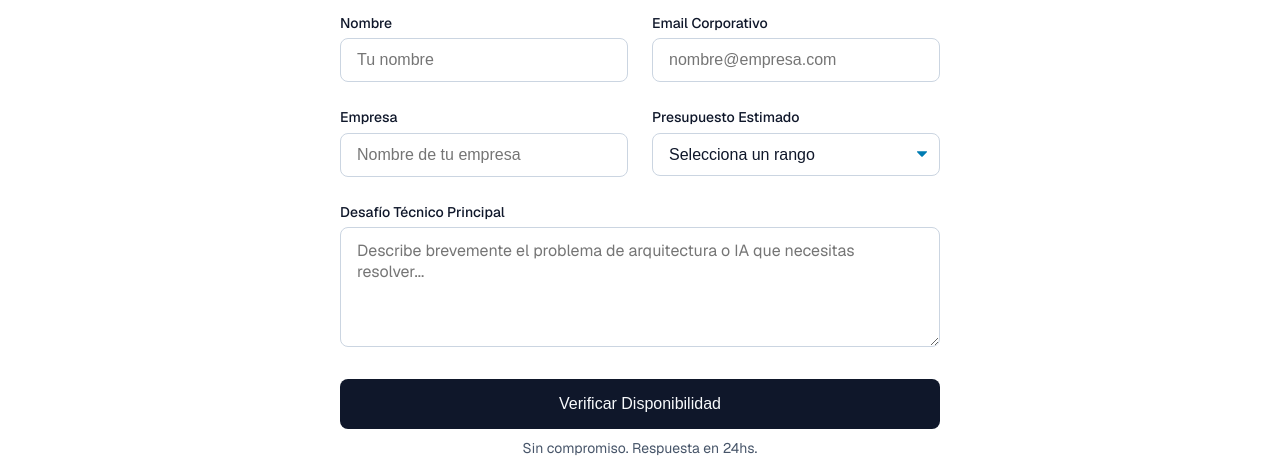
Scenario: QualificationForm Component › handles disqualified lead submission
In the field labelled "Nombre": point(484, 60) 340,38 -> 628,82, type "Diego"
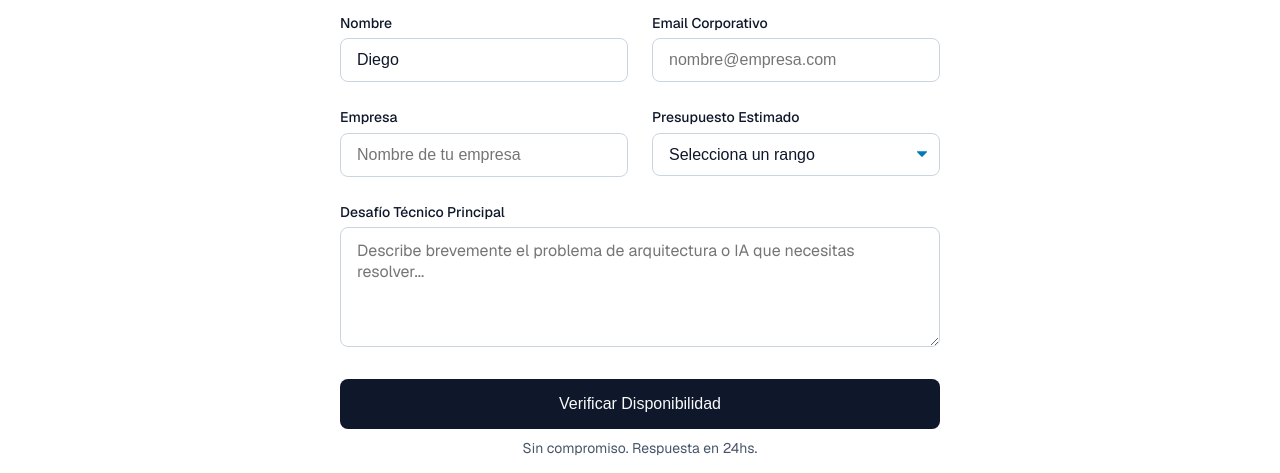
In the field labelled "Email Corporativo": point(796, 60) 652,38 -> 940,82, type "diego@test.com"
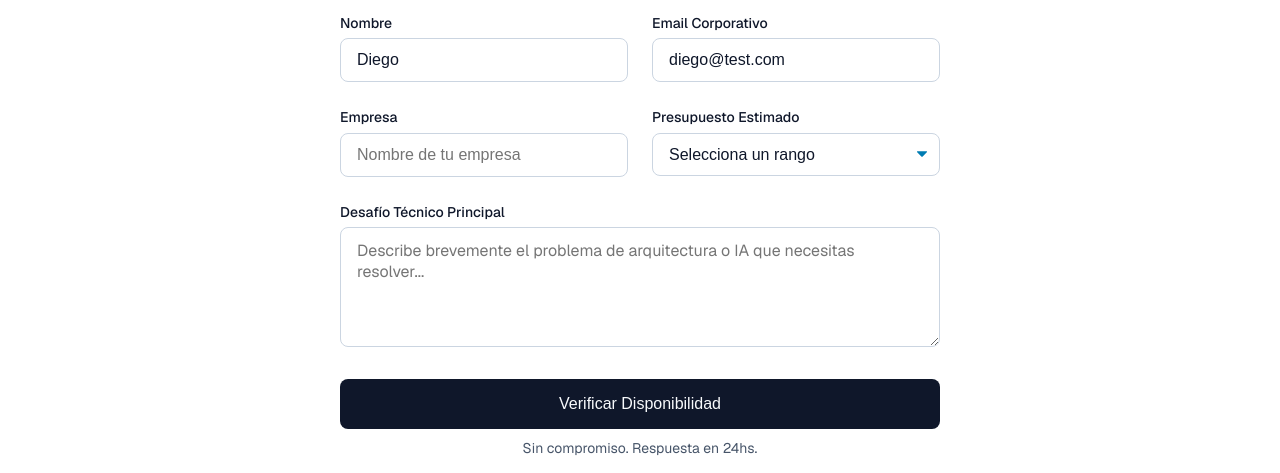
In the field labelled "Empresa": point(484, 155) 340,133 -> 628,177, type "Test Corp"
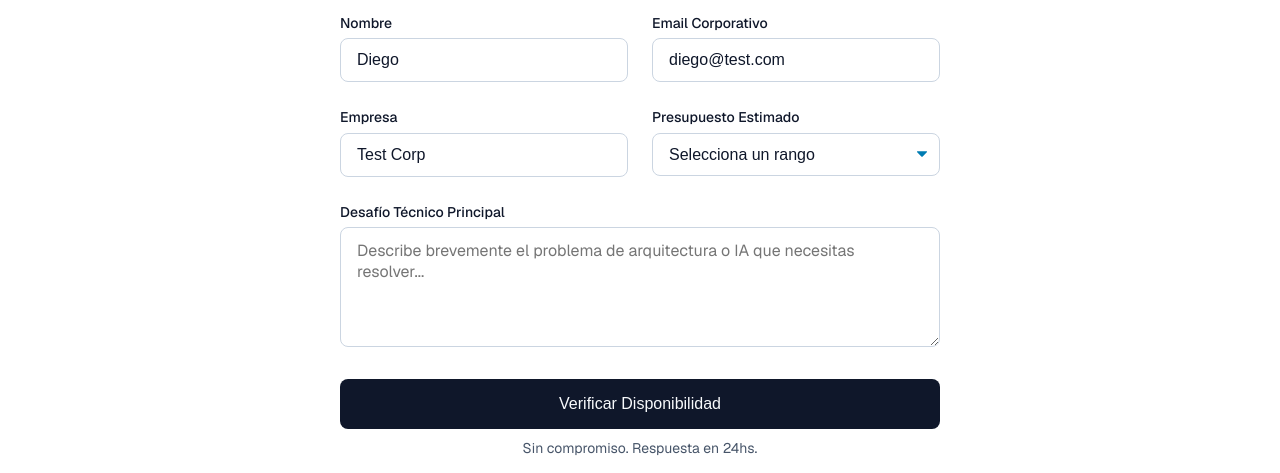
Select "Menos de $5,000 USD" in the dropdown labelled "Presupuesto Estimado": point(796, 154) 652,133 -> 940,176
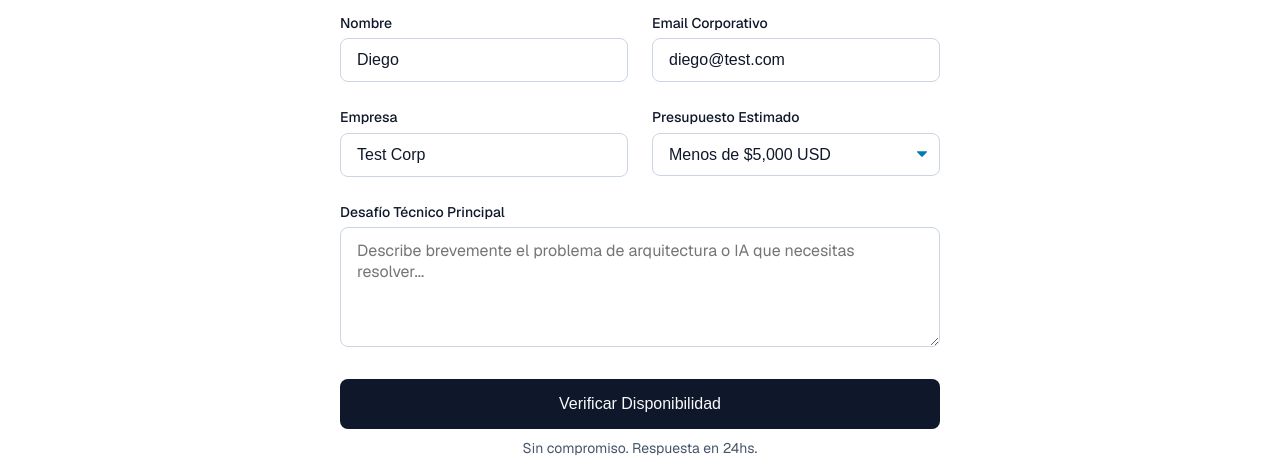
Replace the text in the text box labelled "Desafío Técnico Principal" with "Small site": point(640, 287) 340,227 -> 940,347
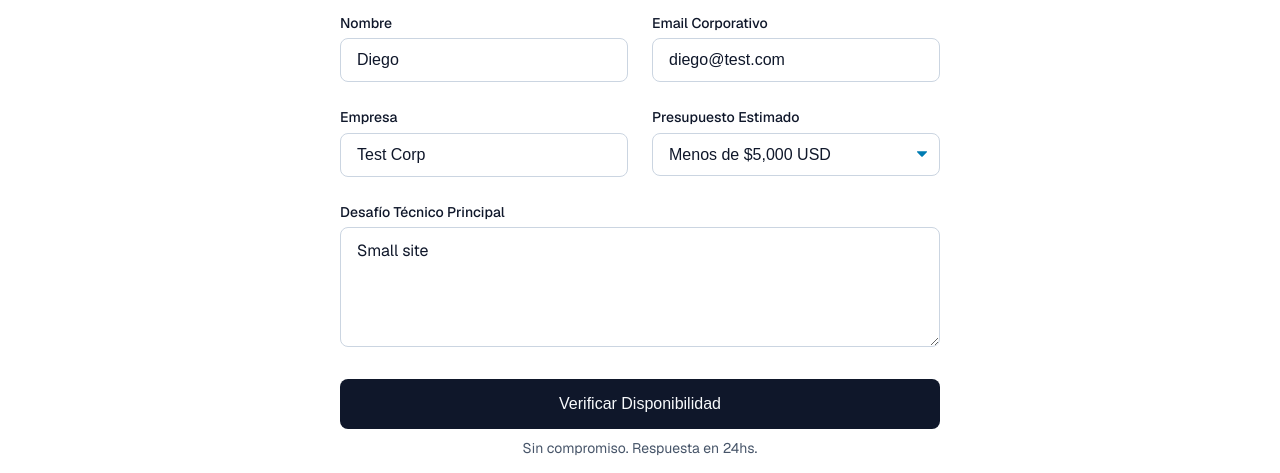
Click the button "Verificar Disponibilidad": point(640, 404) 340,379 -> 940,429
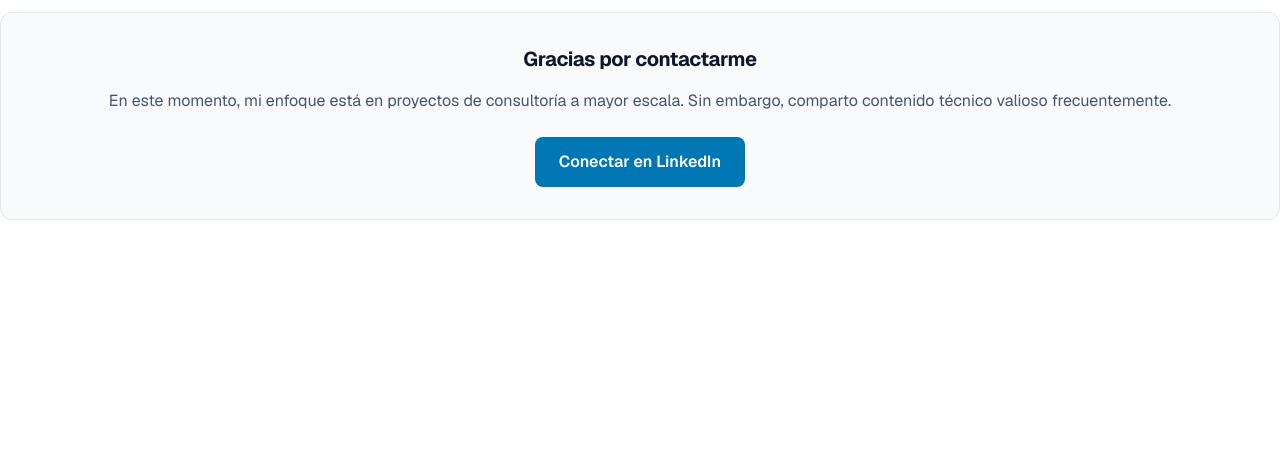
Check: the heading "Gracias por contactarme" is shown, box 523,46 -> 757,72
Check: the link "Conectar en LinkedIn" is shown, box 535,137 -> 745,187
